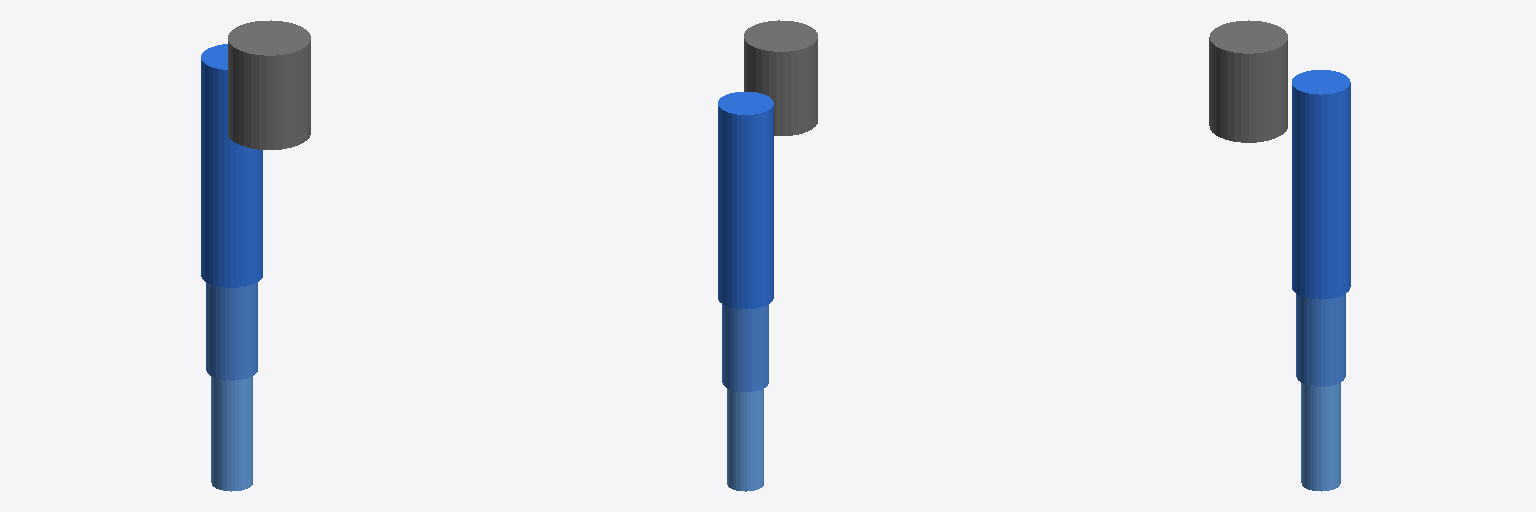
robot.urdf — marengo_arm_5dof_right:
<?xml version="1.0"?>
<!-- Master live URDF — right 5-DOF bench (roll/pitch/yaw/elbow/lower-arm yaw).
     Matches config/robot.yaml. Pi path: /opt/marengo/assets/urdf/marengo.urdf.
     Joint origins and inertials from CAD (cad/assemblies/marengo_arm_right_asm, 2026-10-03):
     axes located from the actuator mates; actuators at RobStride datasheet mass; printed PLA
     parts estimated at 20 % infill. Base frame: origin at the pitch actuator output face, arm
     front = -X, outboard = +Y, up = +Z (the sign-tested joint directions). Derivation and
     assumptions: docs/commissioning/right-arm-urdf-from-cad-2026-10-03.md.
     Hard limits are the Pi's taught limits (ADR 0017). Axes per hardware/docs/kinematics.md (right arm table). -->
<robot name="marengo_arm_5dof_right">
  <link name="base_link">
    <inertial>
      <mass value="0.001"/>
      <inertia ixx="1e-6" ixy="0" ixz="0" iyy="1e-6" iyz="0" izz="1e-6"/>
    </inertial>
    <visual>
      <origin xyz="0 0 0" rpy="0 0 0"/>
      <geometry>
        <cylinder radius="0.04" length="0.10"/>
      </geometry>
      <material name="mount_gray">
        <color rgba="0.5 0.5 0.5 1"/>
      </material>
    </visual>
  </link>
  <!-- Pitch bracket (PLA) + shoulder roll RS03 clamped in its barrel. -->
  <link name="right_shoulder_pitch_link">
    <inertial>
      <origin xyz="-0.00403 0.06933 0.01041" rpy="0 0 0"/>
      <mass value="1.0101"/>
      <inertia ixx="0.001536" ixy="1.603e-05" ixz="-2.844e-08" iyy="0.0009527" iyz="2.068e-07" izz="0.001158"/>
    </inertial>
  </link>
  <!-- Roll bracket (PLA) + upper-arm yaw RS02. -->
  <link name="right_shoulder_roll_link">
    <inertial>
      <origin xyz="-0.00221 -0.00001 -0.06631" rpy="0 0 0"/>
      <mass value="0.4925"/>
      <inertia ixx="0.0004919" ixy="4.083e-07" ixz="0.0001046" iyy="0.0005279" iyz="2.811e-08" izz="0.0004215"/>
    </inertial>
  </link>
  <!-- Upper arm (PLA) + elbow RS02. -->
  <link name="right_upper_arm_link">
    <inertial>
      <mass value="0.5075"/>
      <origin xyz="-0.00010 -0.00779 -0.20990" rpy="0 0 0"/>
      <inertia ixx="0.000923" ixy="-6.824e-09" ixz="-4.374e-07" iyy="0.001014" iyz="-5.757e-05" izz="0.0003144"/>
    </inertial>
    <visual>
      <origin xyz="0 0 -0.115" rpy="0 0 0"/>
      <geometry>
        <cylinder radius="0.03" length="0.23"/>
      </geometry>
      <material name="arm_blue">
        <color rgba="0.23 0.51 0.96 1"/>
      </material>
    </visual>
  </link>
  <!-- Elbow (PLA) + lower-arm yaw RS00. -->
  <link name="right_forearm_link">
    <inertial>
      <mass value="0.3910"/>
      <origin xyz="0.00056 0.00342 -0.05643" rpy="0 0 0"/>
      <inertia ixx="0.000469" ixy="1.038e-06" ixz="-9.693e-06" iyy="0.0004819" iyz="-7.524e-05" izz="0.0001943"/>
    </inertial>
    <visual>
      <origin xyz="0 0 -0.05" rpy="0 0 0"/>
      <geometry>
        <cylinder radius="0.025" length="0.1"/>
      </geometry>
      <material name="forearm_blue">
        <color rgba="0.35 0.6 0.95 1"/>
      </material>
    </visual>
  </link>
  <!-- Lower arm (PLA). -->
  <link name="right_hand_link">
    <inertial>
      <mass value="0.0822"/>
      <origin xyz="-0.00005 0.00000 -0.04038" rpy="0 0 0"/>
      <inertia ixx="0.0001839" ixy="-5.002e-10" ixz="-1.688e-07" iyy="0.0001838" iyz="1.74e-09" izz="6.152e-05"/>
    </inertial>
    <visual>
      <origin xyz="0 0 -0.06" rpy="0 0 0"/>
      <geometry>
        <cylinder radius="0.02" length="0.12"/>
      </geometry>
      <material name="hand_blue">
        <color rgba="0.45 0.7 0.98 1"/>
      </material>
    </visual>
  </link>
  <joint name="right_shoulder_pitch" type="revolute">
    <parent link="base_link"/>
    <child link="right_shoulder_pitch_link"/>
    <origin xyz="0 0 0" rpy="0 0 0"/>
    <axis xyz="0 1 0"/>
    <limit lower="-1.43134" upper="3.25" effort="60" velocity="2.0"/>
    <safety_controller soft_lower_limit="-0.872665" soft_upper_limit="3.20" k_position="10" k_velocity="1"/>
  </joint>
  <!-- Roll axis crosses the pitch axis 73.5 mm outboard of the pitch output face. -->
  <joint name="right_shoulder_roll" type="revolute">
    <parent link="right_shoulder_pitch_link"/>
    <child link="right_shoulder_roll_link"/>
    <origin xyz="0 0.07349 0" rpy="0 0 0"/>
    <axis xyz="1 0 0"/>
    <limit lower="-0.099415" upper="3.22308" effort="60" velocity="2.0"/>
    <safety_controller soft_lower_limit="-0.05" soft_upper_limit="3.14159" k_position="10" k_velocity="1"/>
  </joint>
  <!-- Yaw axis passes 1.15 mm behind the pitch/roll intersection. -->
  <joint name="right_upper_arm_yaw" type="revolute">
    <parent link="right_shoulder_roll_link"/>
    <child link="right_upper_arm_link"/>
    <origin xyz="0.00115 -0.00001 0" rpy="0 0 0"/>
    <axis xyz="0 0 1"/>
    <limit lower="-1.57" upper="1.57" effort="17" velocity="2.0"/>
    <safety_controller soft_lower_limit="-1.57" soft_upper_limit="1.57" k_position="10" k_velocity="1"/>
  </joint>
  <!-- Hard limits: Pi taught envelope (ADR 0017); Davout hard = URDF ∩ motors.yaml. -->
  <joint name="right_elbow_pitch" type="revolute">
    <parent link="right_upper_arm_link"/>
    <child link="right_forearm_link"/>
    <origin xyz="0 0 -0.23036" rpy="0 0 0"/>
    <axis xyz="0 1 0"/>
    <limit lower="-1.63191" upper="1.60728" effort="17" velocity="2.0"/>
    <safety_controller soft_lower_limit="-0.50" soft_upper_limit="1.15" k_position="10" k_velocity="1"/>
  </joint>
  <!-- Axis Y per hardware/docs/kinematics.md right-arm table (forearm → hand). In CAD the RS00
       axis runs along the forearm (Z at q = 0); origin is its output face, so the axis choice
       does not move the hand at q = 0. -->
  <joint name="right_lower_arm_yaw" type="revolute">
    <parent link="right_forearm_link"/>
    <child link="right_hand_link"/>
    <origin xyz="0.00013 0.00006 -0.09968" rpy="0 0 0"/>
    <axis xyz="0 1 0"/>
    <limit lower="-3.24409" upper="3.24409" effort="17" velocity="2.0"/>
    <safety_controller soft_lower_limit="-1.55" soft_upper_limit="1.55" k_position="10" k_velocity="1"/>
  </joint>
</robot>

--- Render facts (derived) ---
Views: 3 orthographic renders of the robot side by side, from view 1: azimuth 30°, elevation 25°; view 2: azimuth 150°, elevation 25°; view 3: azimuth 270°, elevation 25°.
Model marengo_arm_5dof_right with 6 links and 5 joints (5 revolute), rooted at base_link, posed every joint at zero.
Links seen in each view (by area): view 1: right_upper_arm_link, base_link, right_forearm_link, right_hand_link; view 2: right_upper_arm_link, base_link, right_forearm_link, right_hand_link; view 3: right_upper_arm_link, base_link, right_forearm_link, right_hand_link.
Boxes of the visible links, bbox=[...] form: right_upper_arm_link: bbox=[201, 44, 262, 287]; base_link: bbox=[228, 20, 310, 149]; right_forearm_link: bbox=[206, 282, 257, 380]; right_hand_link: bbox=[211, 376, 252, 491]; right_upper_arm_link: bbox=[718, 92, 773, 308]; base_link: bbox=[744, 20, 817, 135]; right_forearm_link: bbox=[722, 304, 768, 391]; right_hand_link: bbox=[727, 389, 763, 491]; right_upper_arm_link: bbox=[1292, 70, 1350, 299]; base_link: bbox=[1209, 20, 1287, 142]; right_forearm_link: bbox=[1296, 294, 1345, 386]; right_hand_link: bbox=[1301, 383, 1340, 491].
Bounding box of the posed robot: 0.08 × 0.1435 × 0.5 m (x, y, z).
Geometry: primitives only (box / cylinder / sphere), no mesh files.
